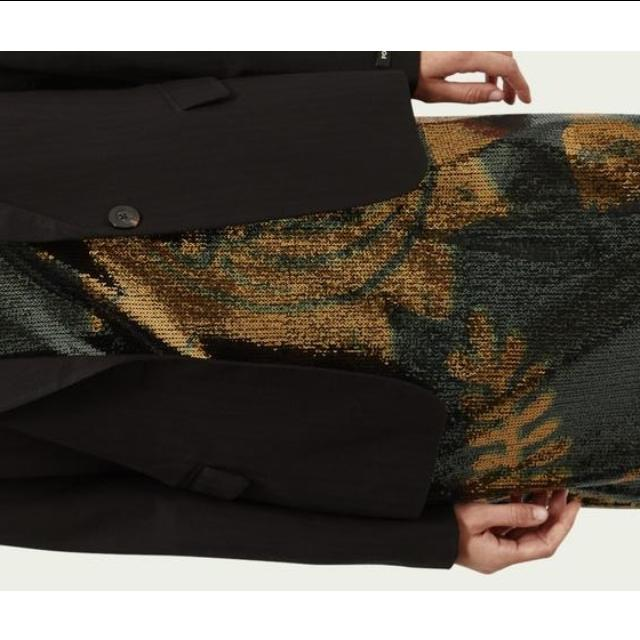silk: (0, 229, 640, 359)
